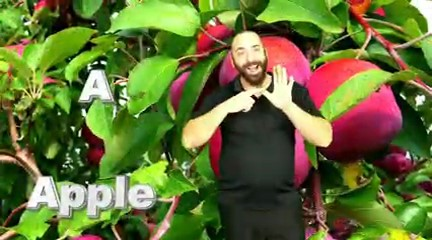A: (230, 62, 299, 120)
